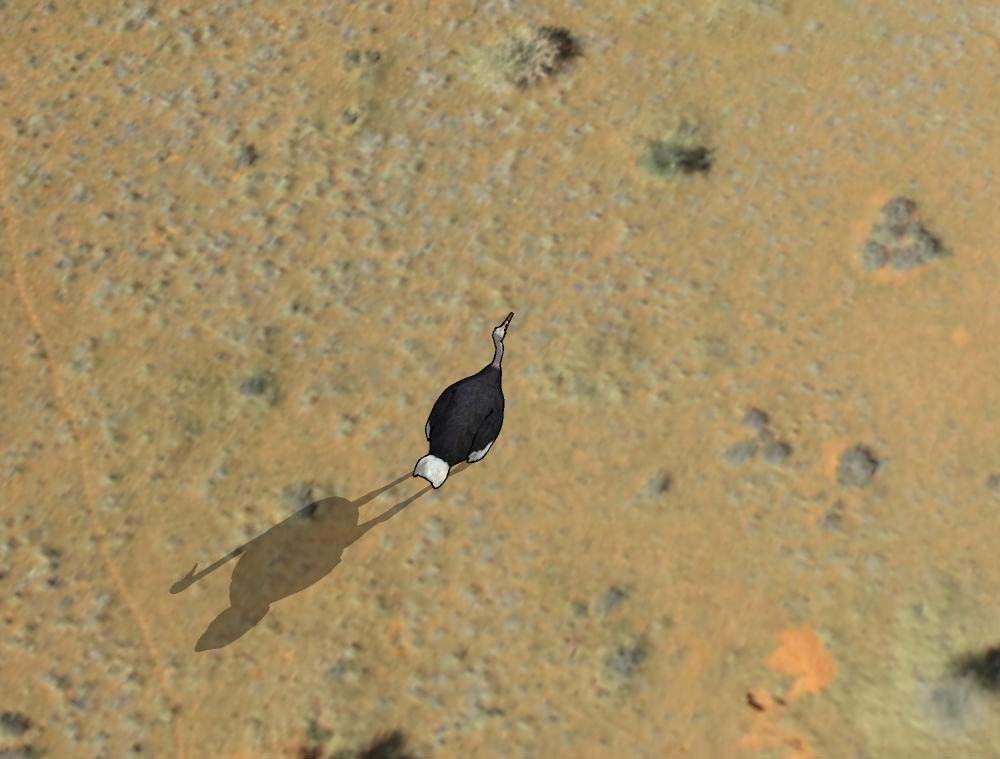springbok: (411, 307, 531, 494)
